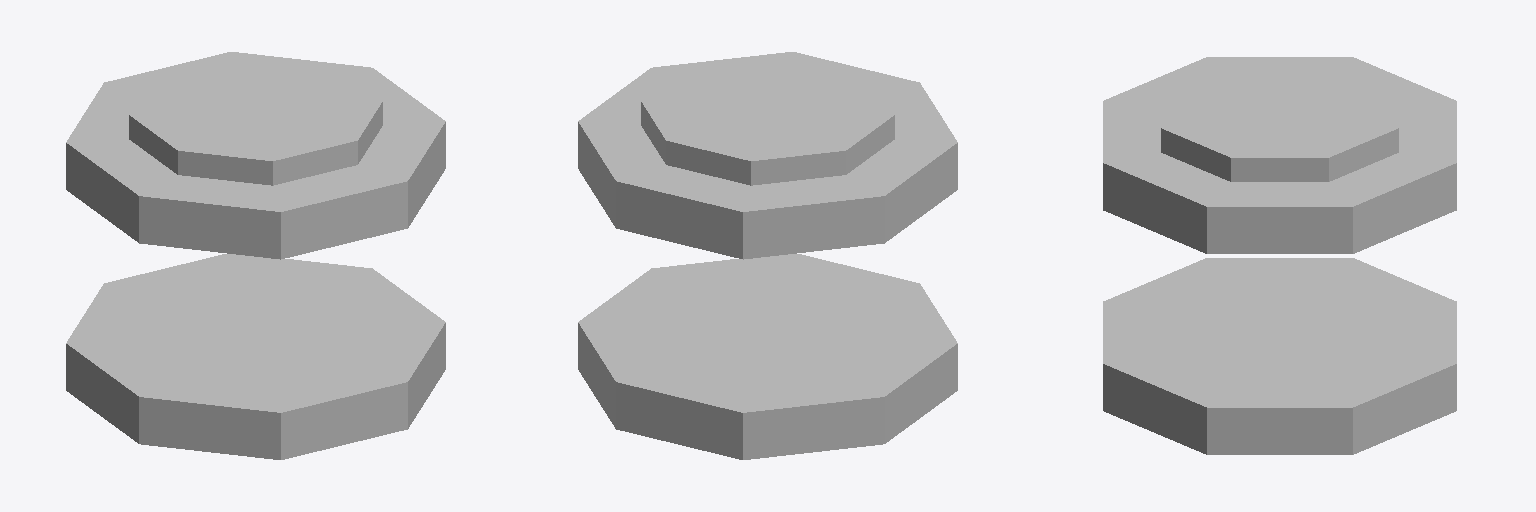
The model's file is wheel.obj.
3 views of the same model, side by side, from view 1: azimuth 30°, elevation 25°; view 2: azimuth 150°, elevation 25°; view 3: azimuth 270°, elevation 25° (orthographic).
Parts seen in each view (by area): view 1: Cube.029_Cube.003; view 2: Cube.029_Cube.003; view 3: Cube.029_Cube.003.
Boxes of the visible parts, x1=… form: Cube.029_Cube.003: x1=66, y1=52, x2=445, y2=459; Cube.029_Cube.003: x1=578, y1=52, x2=957, y2=459; Cube.029_Cube.003: x1=1103, y1=57, x2=1456, y2=454.
Size of the model in its own units: 0.7749 by 0.7169 by 0.7749.